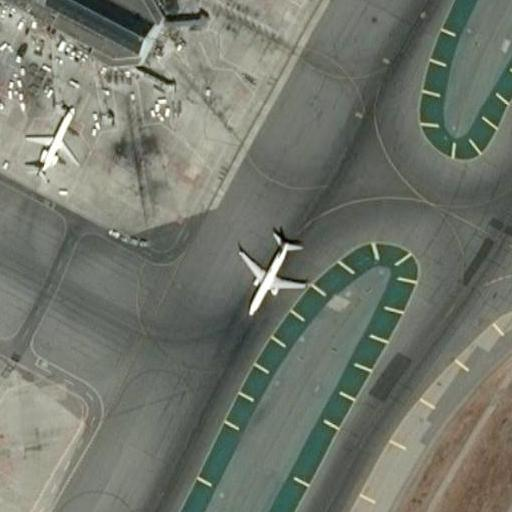Aircraft: (234, 228, 308, 314), (23, 103, 84, 177)
